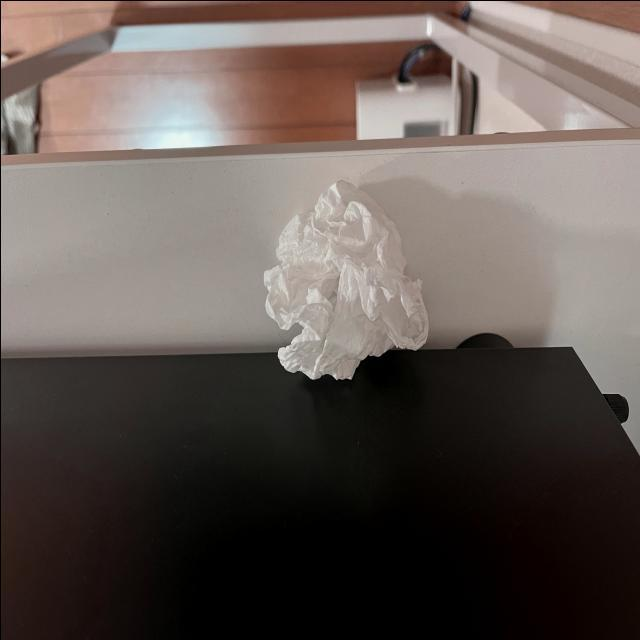Paper: (246, 179, 426, 420)
